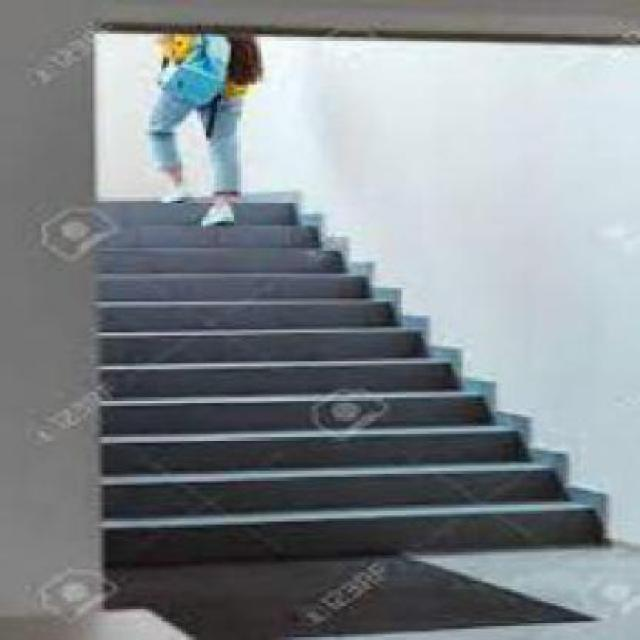stair: (94, 302, 603, 549)
